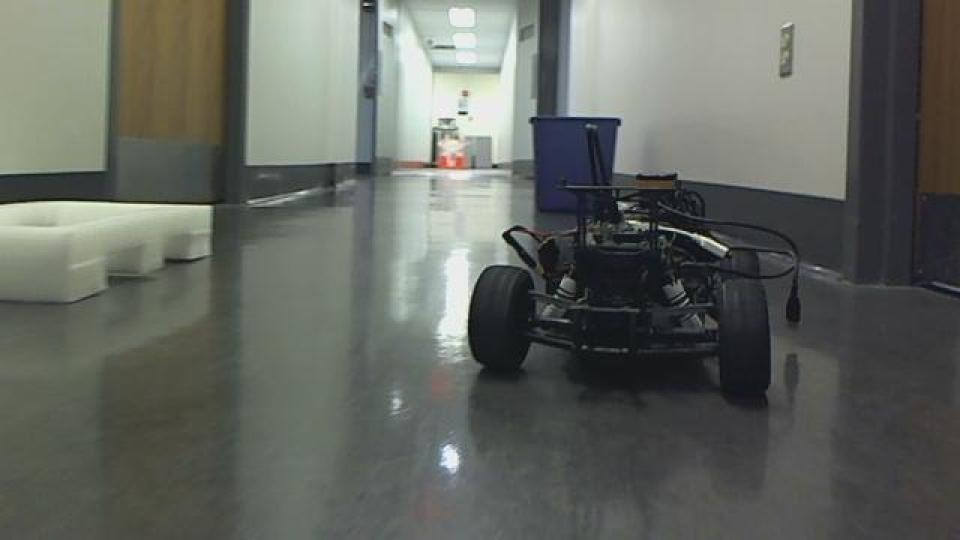car: (464, 123, 804, 403)
